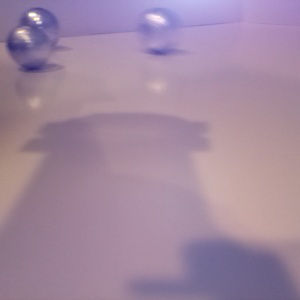alive_ball: (138, 8, 183, 53), (7, 25, 51, 68), (17, 8, 60, 49)
